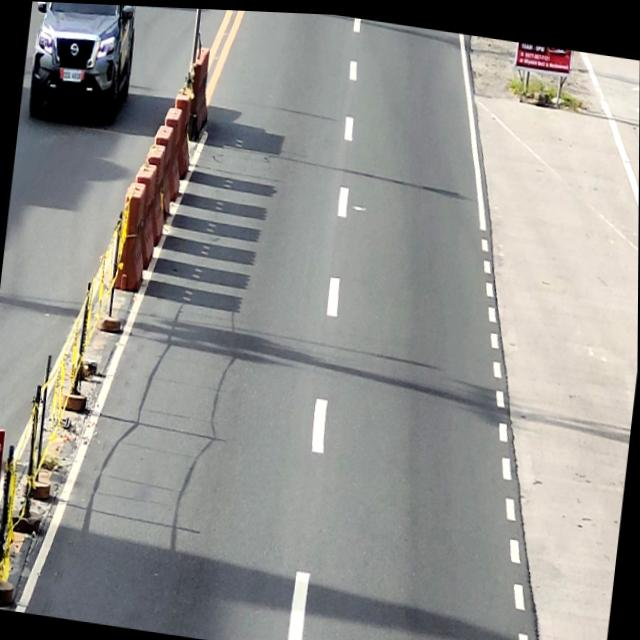Car: (24, 1, 140, 129)
License-Plate: (60, 64, 84, 83)
